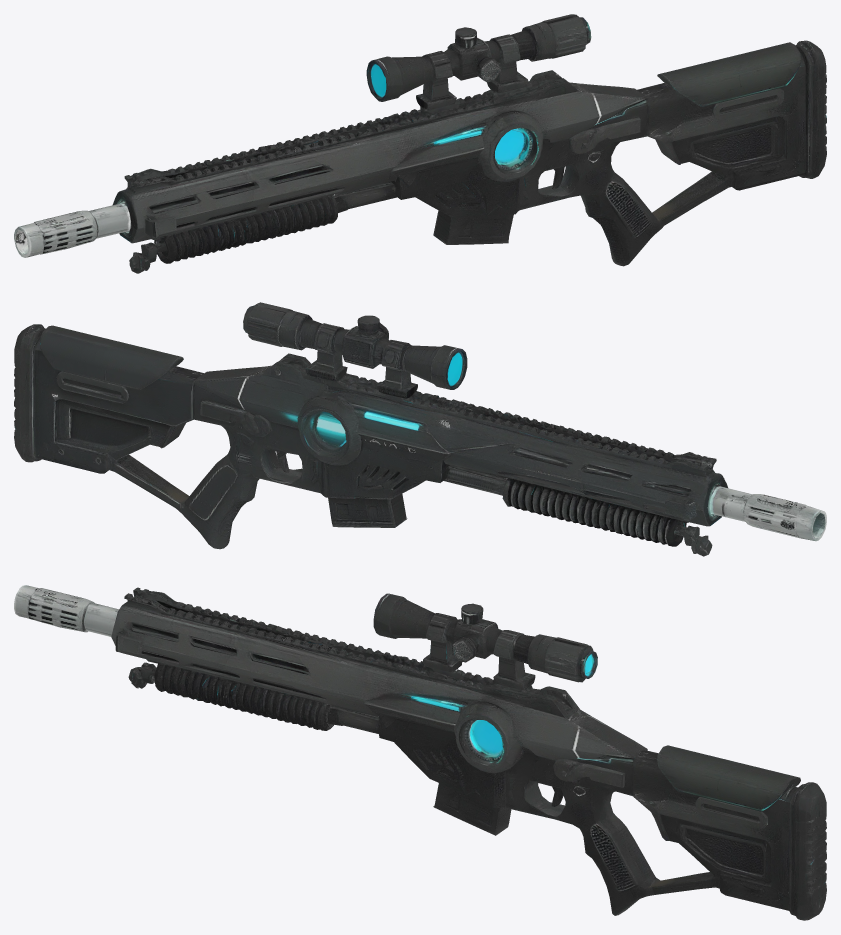
File: plasma_sniper.glb
3 renders of one model, top to bottom at view 1: azimuth 30°, elevation 25°; view 2: azimuth 150°, elevation 25°; view 3: azimuth 330°, elevation 25°, orthographic.
Bounding box in the file's own units: 1.9 × 0.607 × 0.1608.
Materials: 1 (1 with a texture image).
